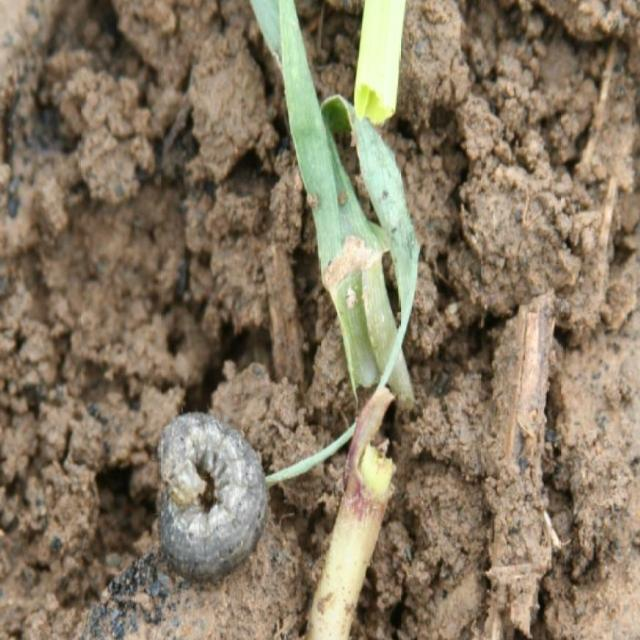black cutworm: (142, 408, 278, 582)
